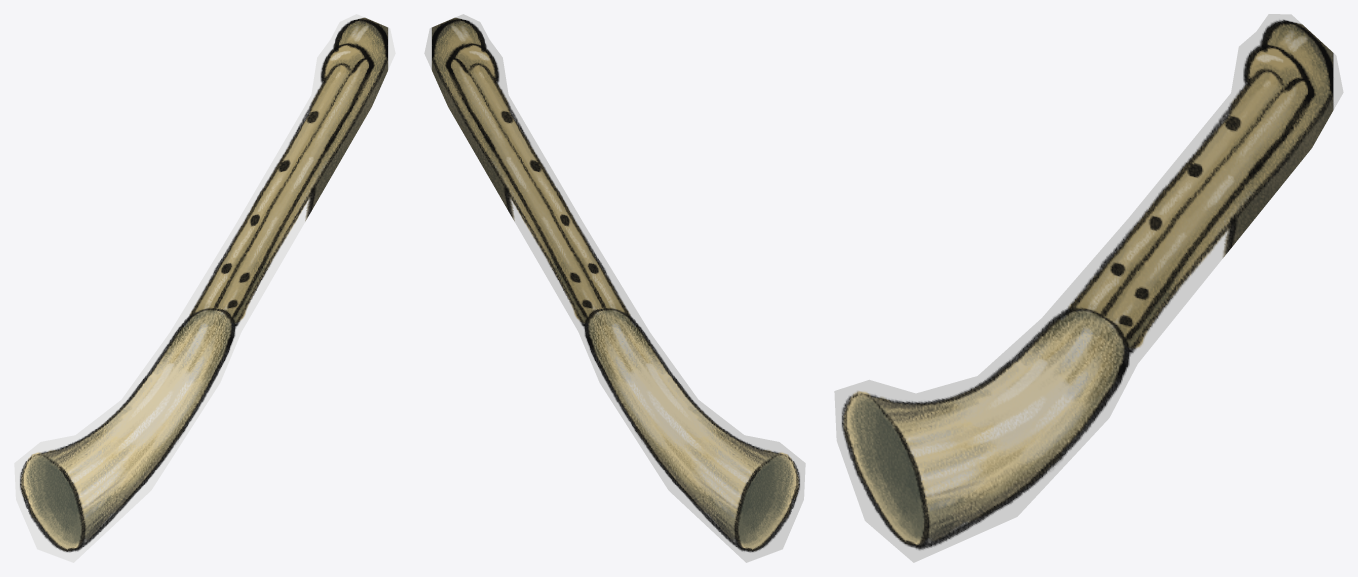
File: pistala_1.glb
3 views of the same model, side by side, from view 1: azimuth 30°, elevation 25°; view 2: azimuth 150°, elevation 25°; view 3: azimuth 330°, elevation 25° (orthographic). The views are drawn at different scales.
Visible parts, largest first — view 1: Plane.018; view 2: Plane.018; view 3: Plane.018.
Boxes of the visible parts, x1,y1,x2,y2 form: Plane.018: [14, 14, 395, 562]; Plane.018: [424, 14, 805, 562]; Plane.018: [834, 14, 1343, 562].
Size of the model in its own units: 9 by 10.82 by 0.
Materials: 1 (1 with a texture image).
